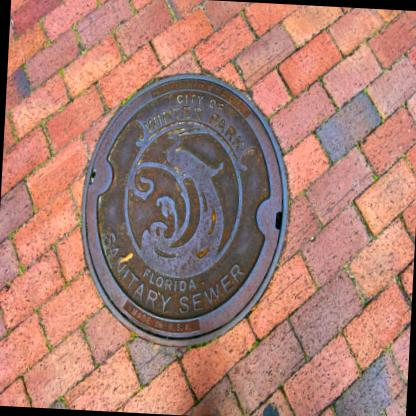manholes: (57, 44, 311, 366)
